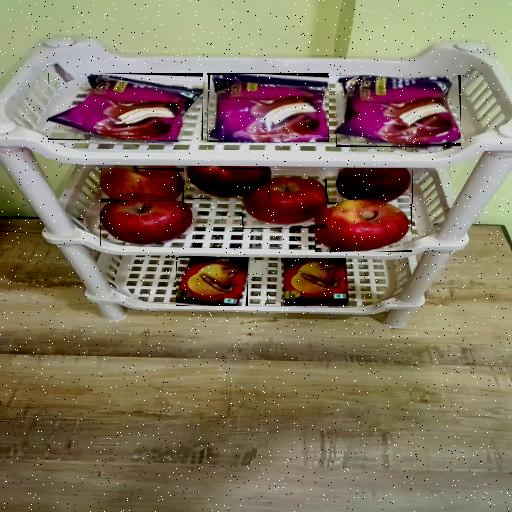Apple: (315, 202, 412, 252), (100, 194, 192, 246), (242, 180, 327, 230), (101, 168, 184, 201), (186, 168, 270, 199), (338, 170, 413, 204)
Choco Fills: (176, 257, 248, 306), (281, 258, 346, 306)
Choco Pie: (48, 73, 203, 140), (336, 76, 461, 148), (206, 73, 328, 142)
